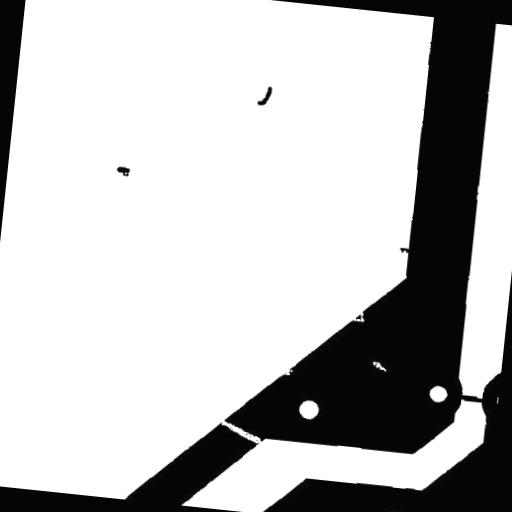copper: (249, 77, 280, 114), (108, 158, 138, 184)
mousebite: (344, 302, 374, 330), (274, 360, 301, 384)
open: (210, 412, 272, 453)
pin-hole: (363, 353, 395, 380)
short: (450, 386, 494, 411)
spur: (391, 240, 417, 262)
